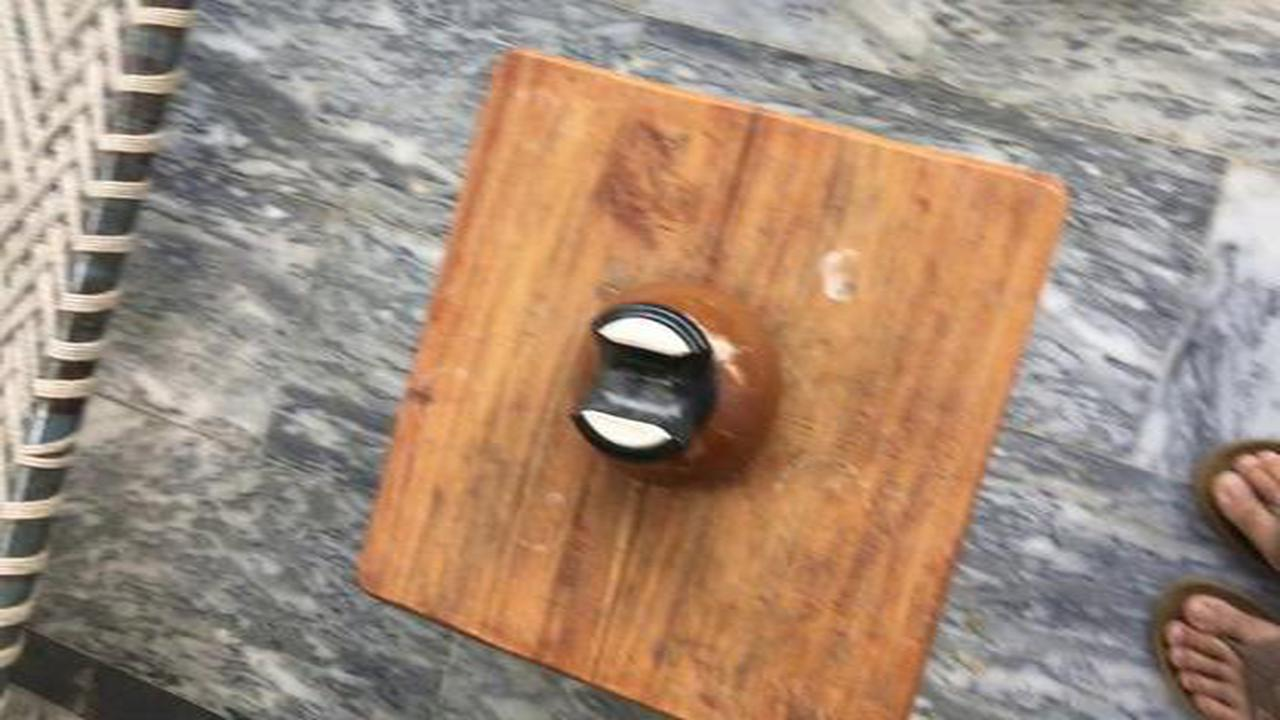insulator_pin: (545, 269, 804, 499)
